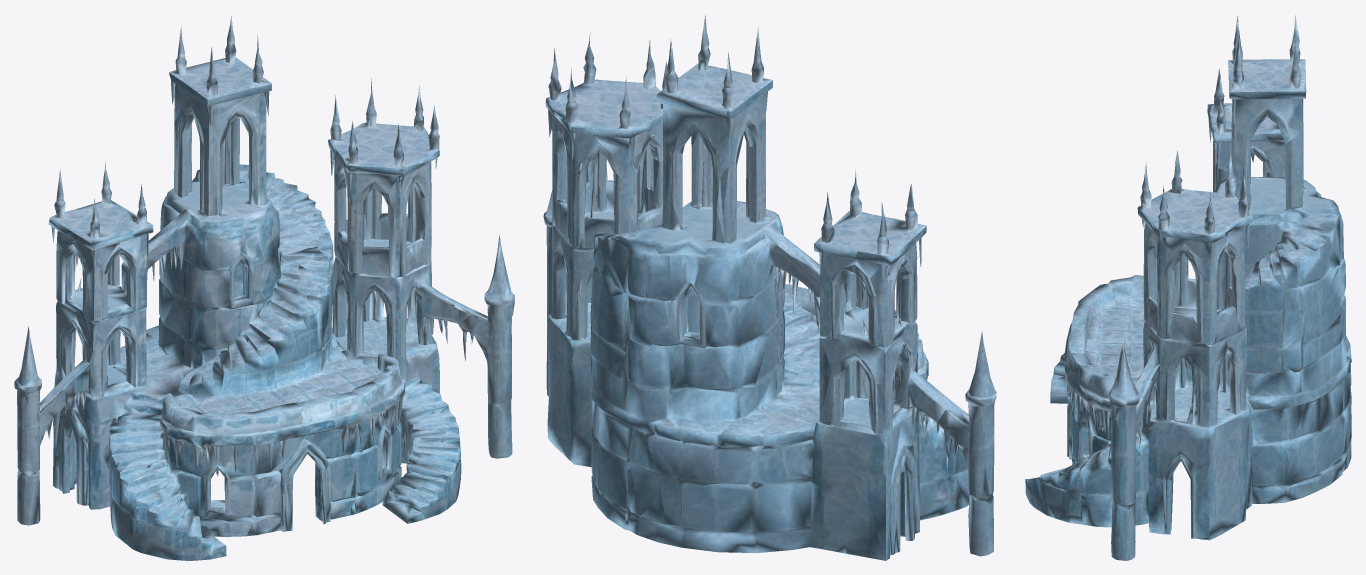
File: ice_castle.glb
3 views of the same model, side by side, from view 1: azimuth 30°, elevation 25°; view 2: azimuth 150°, elevation 25°; view 3: azimuth 270°, elevation 25° (orthographic). The views are drawn at different scales.
Parts seen in each view (by area): view 1: ice_castle; view 2: ice_castle; view 3: ice_castle.
Part boxes in pixels (box(x1,y1,x2,y2)): ice_castle: box(14, 15, 514, 560); ice_castle: box(543, 15, 996, 560); ice_castle: box(1025, 15, 1351, 560).
Bounding box in the file's own units: 1.9 × 1.72 × 1.19.
Materials: 1 (1 with a texture image).
